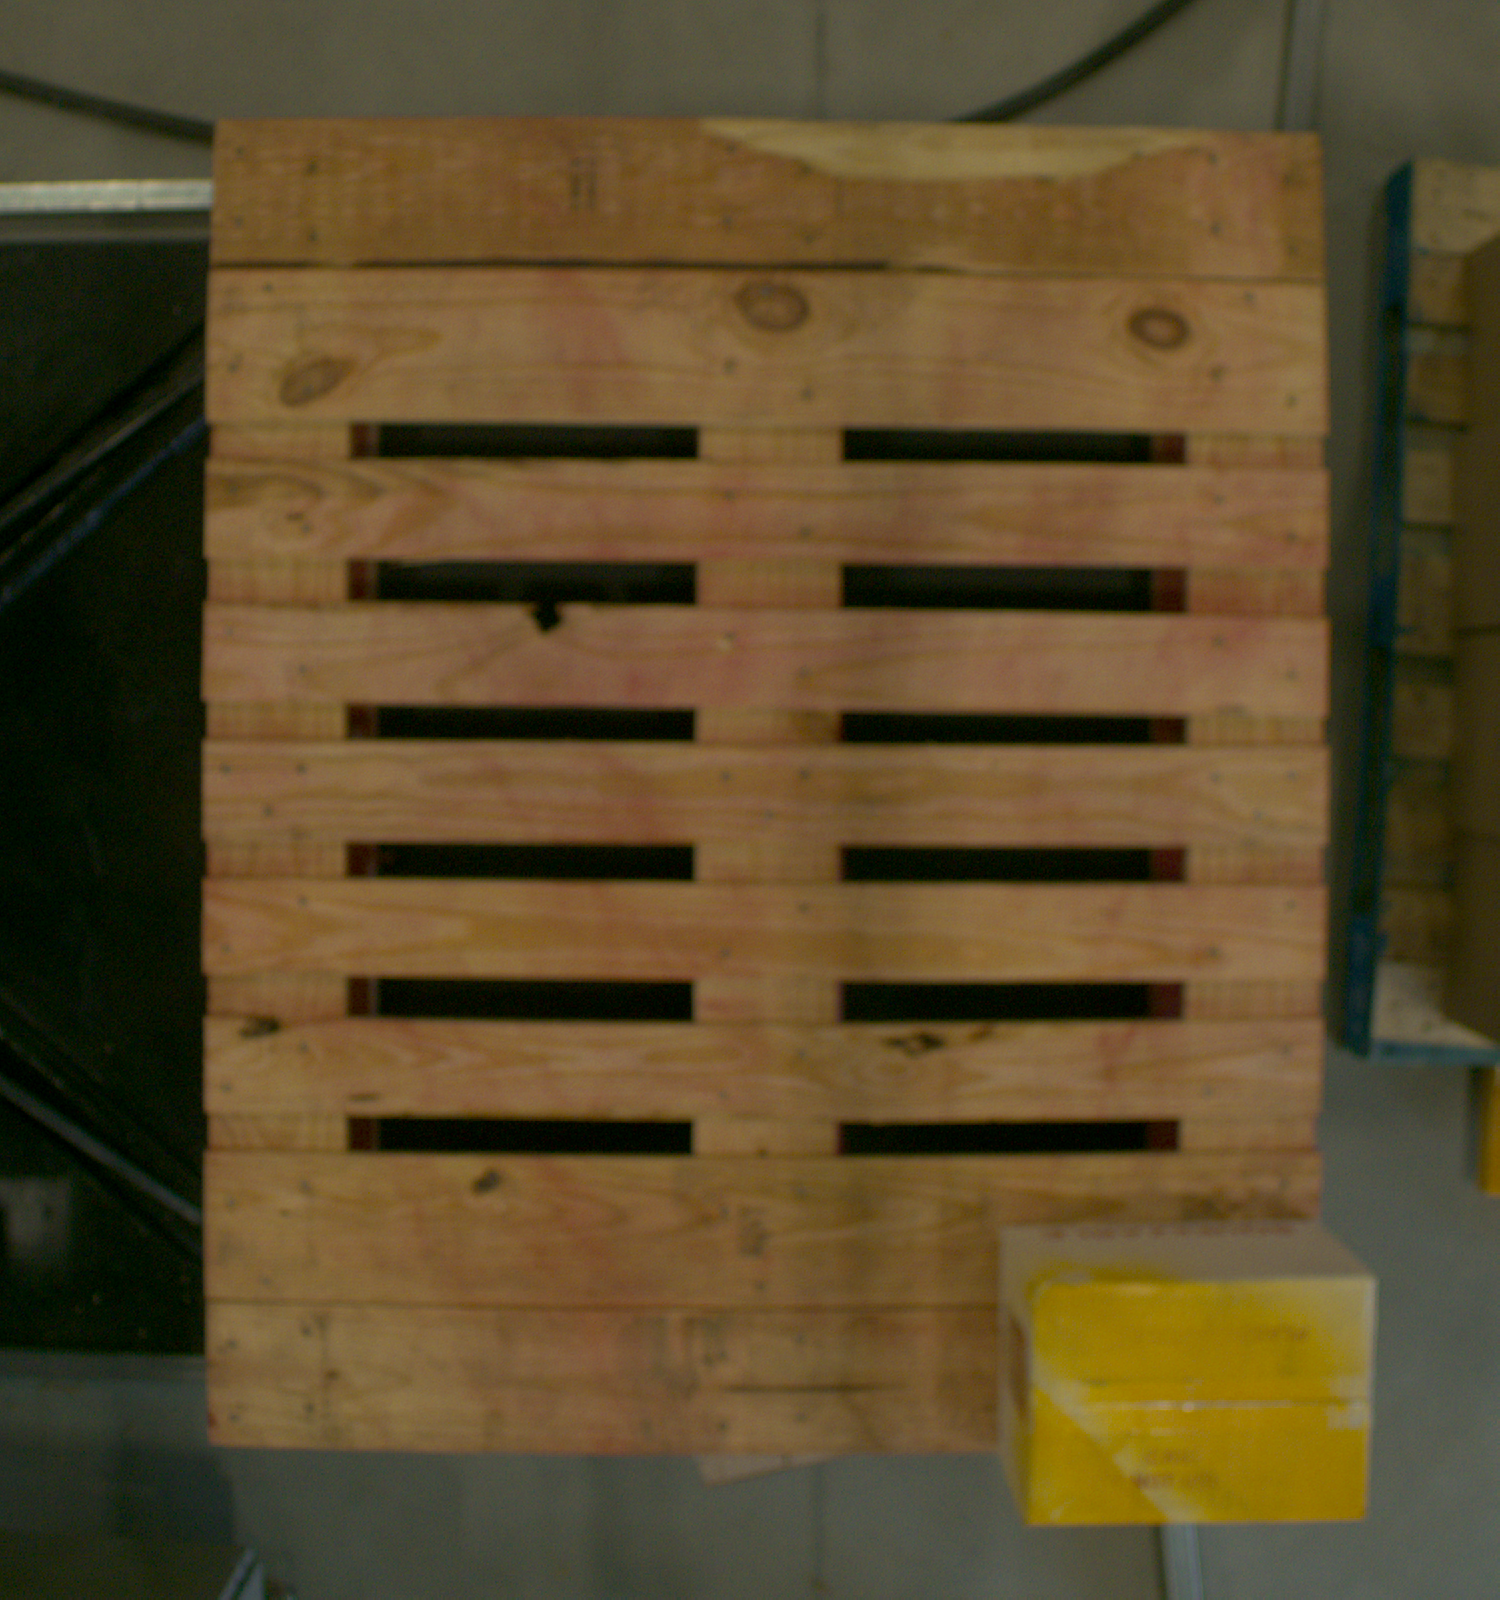box top: (1029, 1277, 1377, 1527)
